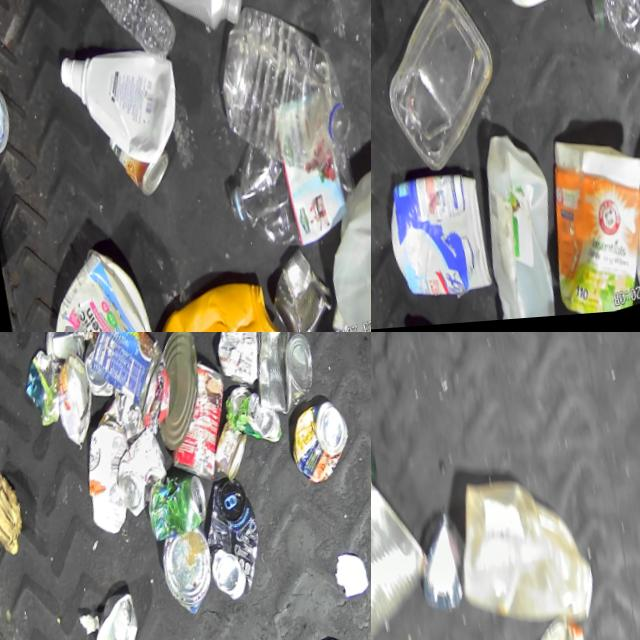can: (371, 421, 457, 640), (153, 356, 248, 494), (194, 477, 279, 611), (139, 332, 218, 455), (77, 332, 180, 424), (239, 332, 327, 427), (106, 111, 186, 211), (284, 400, 362, 495), (110, 425, 182, 524), (268, 247, 350, 332), (158, 528, 229, 625), (48, 348, 107, 451), (146, 469, 219, 546), (222, 380, 290, 460), (205, 332, 280, 397), (209, 420, 259, 487), (88, 591, 154, 640), (0, 71, 30, 168), (528, 604, 603, 640), (80, 338, 120, 405), (39, 332, 91, 371)
milk_jug: (441, 454, 611, 640), (454, 119, 600, 327), (302, 150, 371, 332)
non_white_jug: (148, 267, 302, 332), (123, 0, 257, 63)
plastic_bottle: (218, 0, 371, 194), (219, 113, 366, 271), (83, 0, 191, 79)
